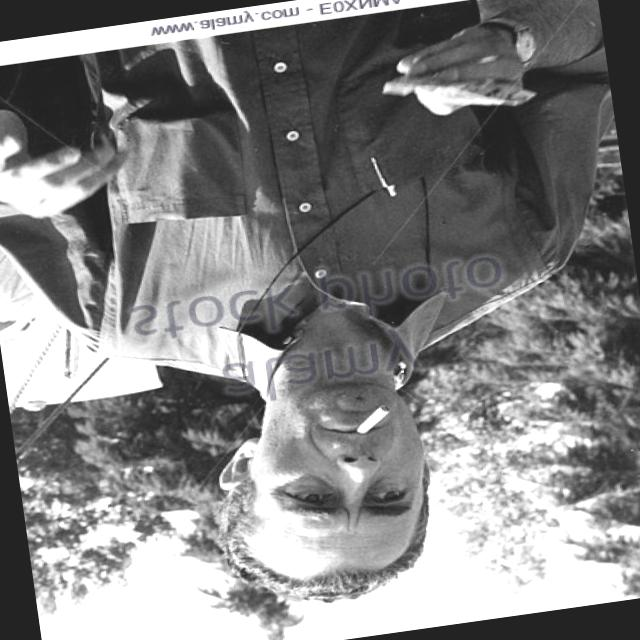smoke: (352, 402, 397, 437)
